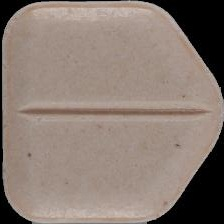54868-5754: (0, 0, 224, 224)
